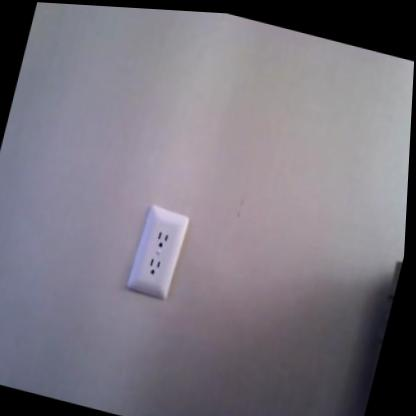OUTLET: (128, 202, 190, 296)
